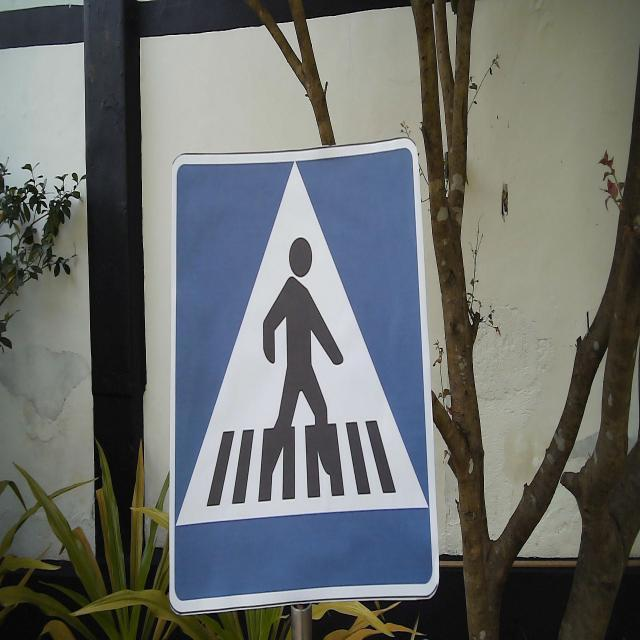crosswalk_sign: (167, 135, 442, 619)
